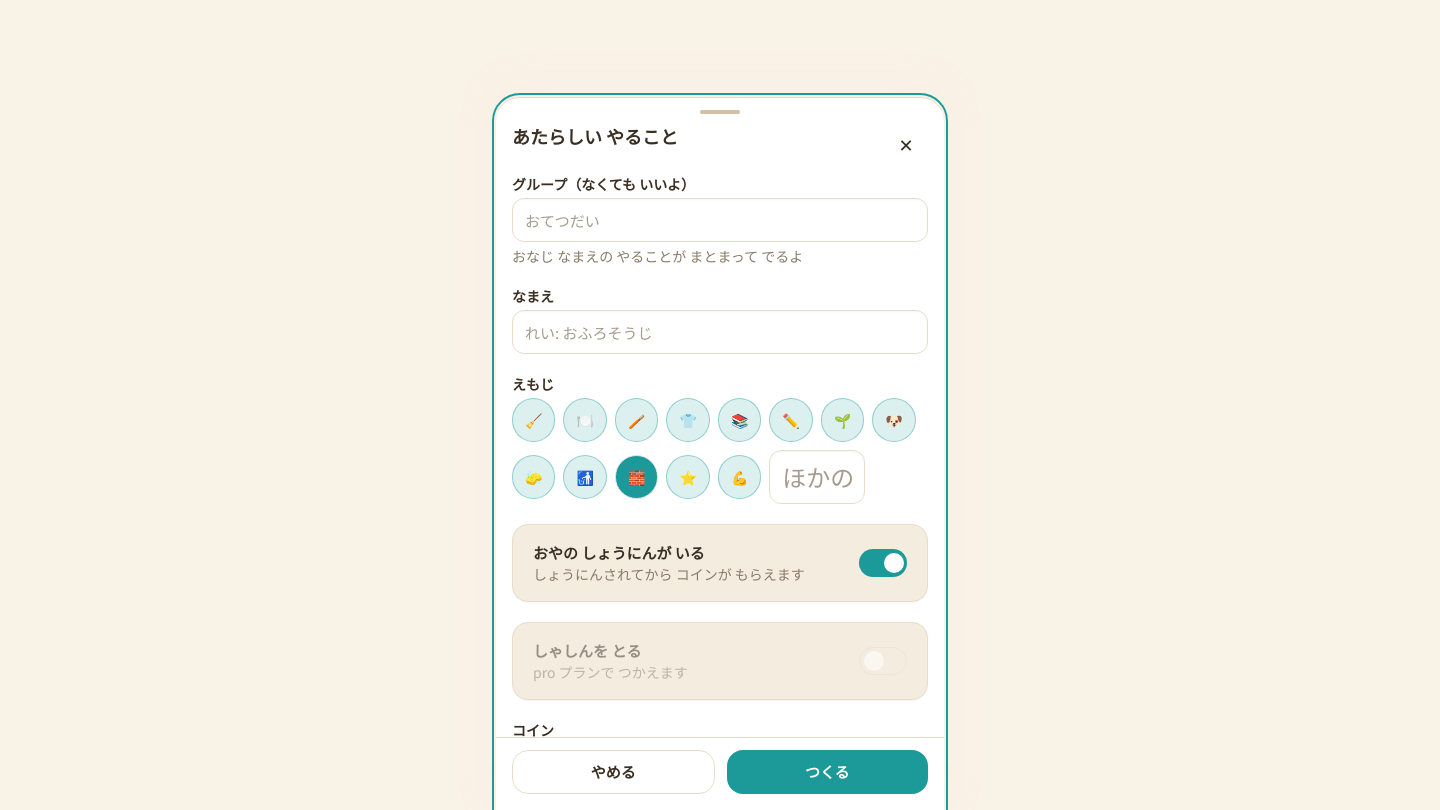
TaskEditor emoji field › keeps only the first grapheme when more than one is typed or pasted
The image size is (1440, 810).
Type "🦖🐶" into the field named "ほかの えもじを にゅうりょく" at (817,477), box [769,450,865,504]
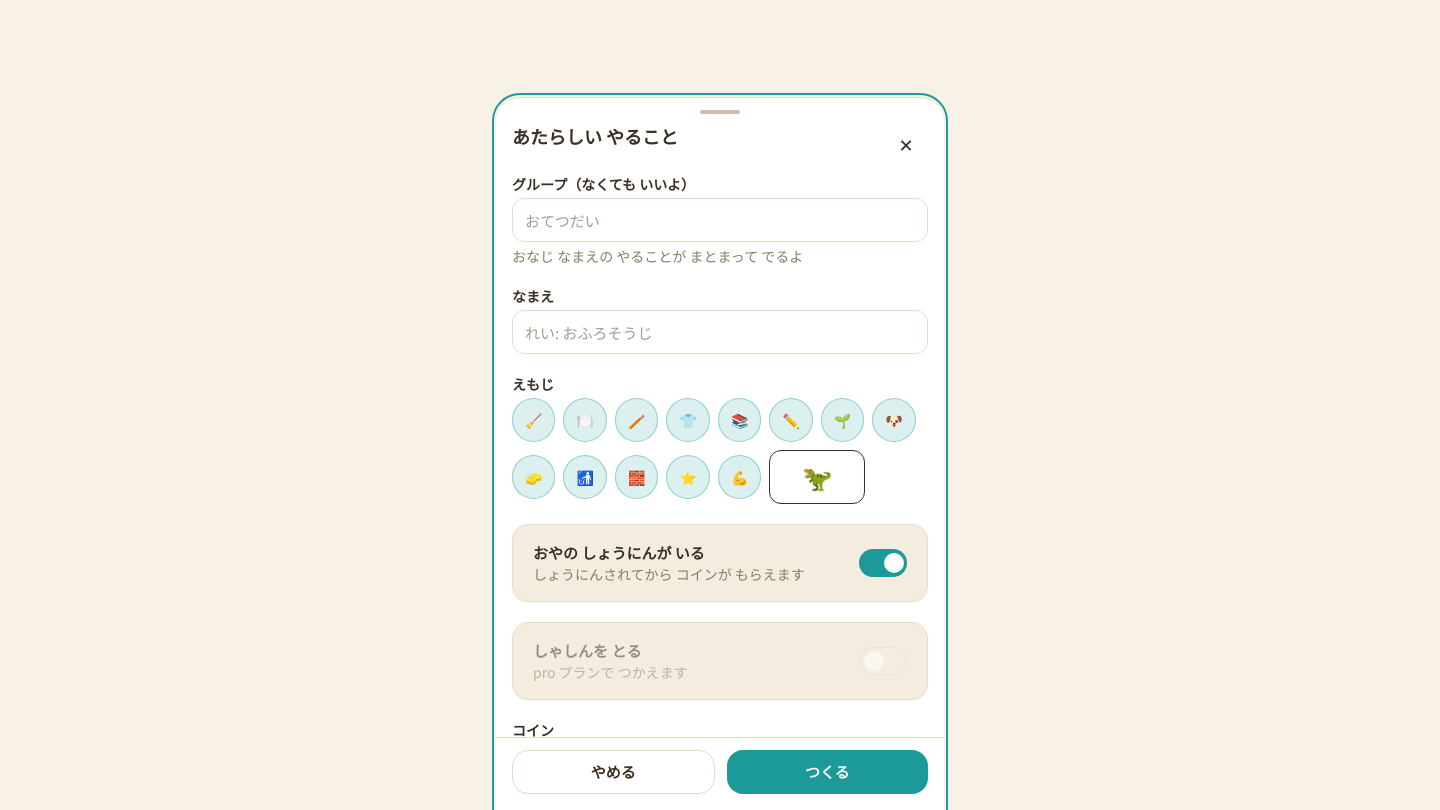
Expected: the field named "ほかの えもじを にゅうりょく" holds "🦖", [769,450,865,504]
